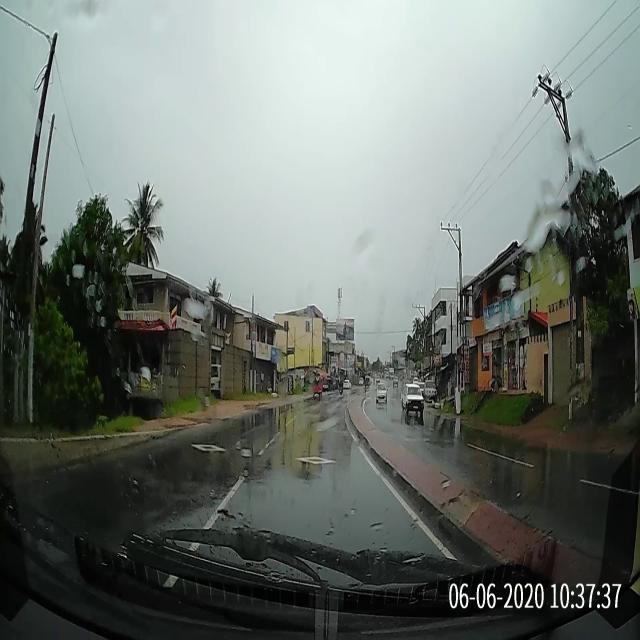diamond: (236, 443, 387, 478)
